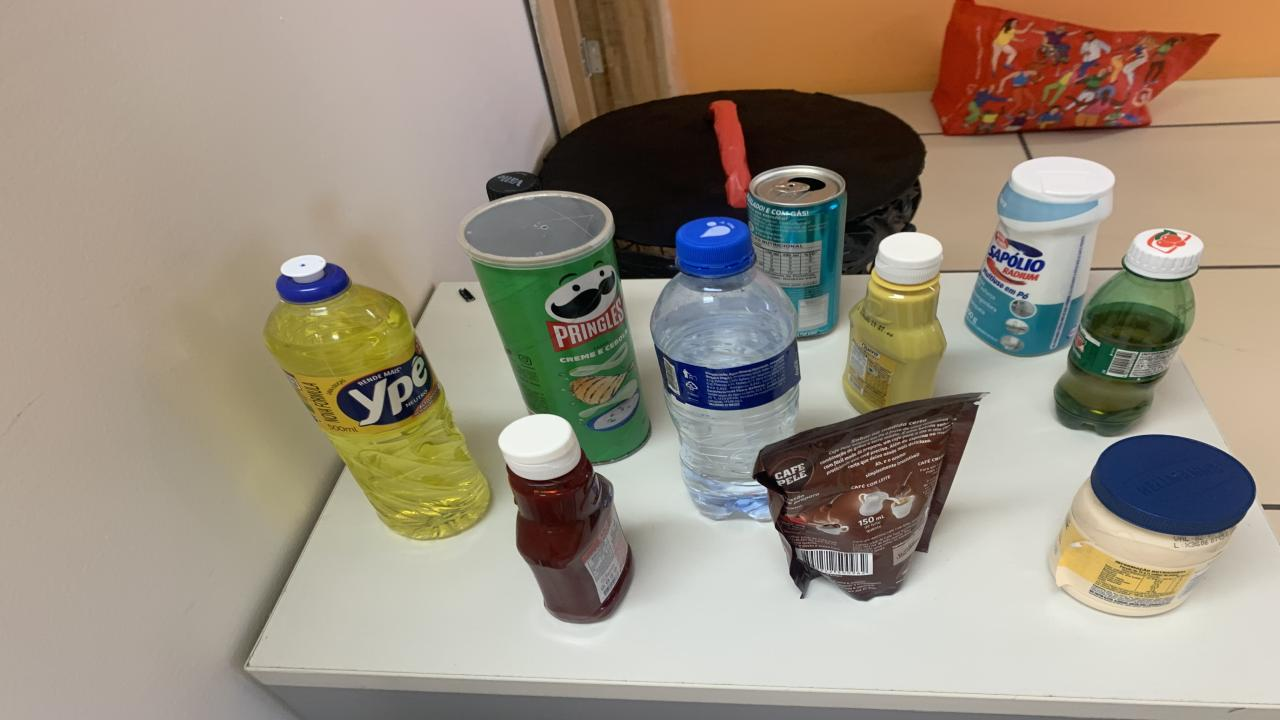Cleaner-Cleanup_Items: (965, 158, 1115, 356)
Coffee-Pantry_Items: (755, 394, 982, 600)
Detergent-Cleanup_Items: (262, 255, 490, 540)
Guarana-Drinks: (1055, 229, 1205, 435)
Ketchup-Pantry_Items: (500, 414, 632, 622)
Mayonnaise-Pantry_Items: (1050, 435, 1255, 617)
Mustard-Pantry_Items: (842, 232, 945, 412)
Pringles-Snacks: (460, 188, 650, 463)
Soda-Drinks: (488, 171, 540, 201)
Tea-Drinks: (748, 165, 848, 338)
Water_Bottle-Drinks: (650, 218, 800, 521)
